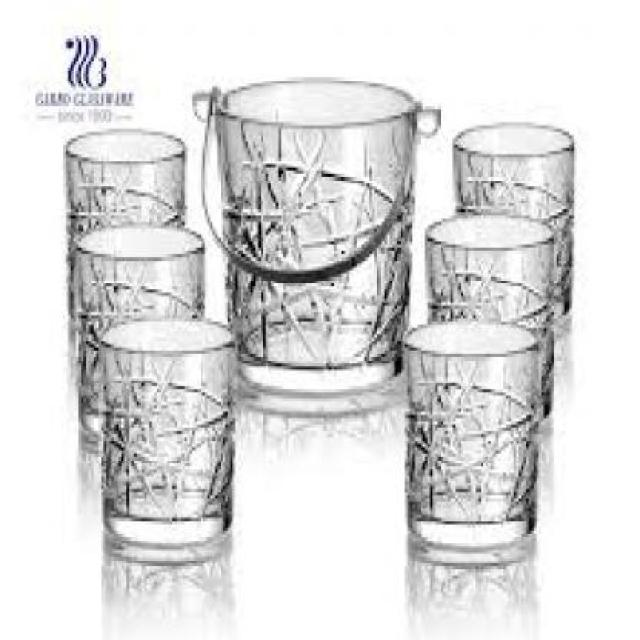kaca: (212, 82, 416, 406), (403, 316, 546, 570), (98, 315, 231, 563), (71, 221, 200, 457), (426, 210, 552, 418), (63, 127, 180, 336), (452, 122, 570, 318)
